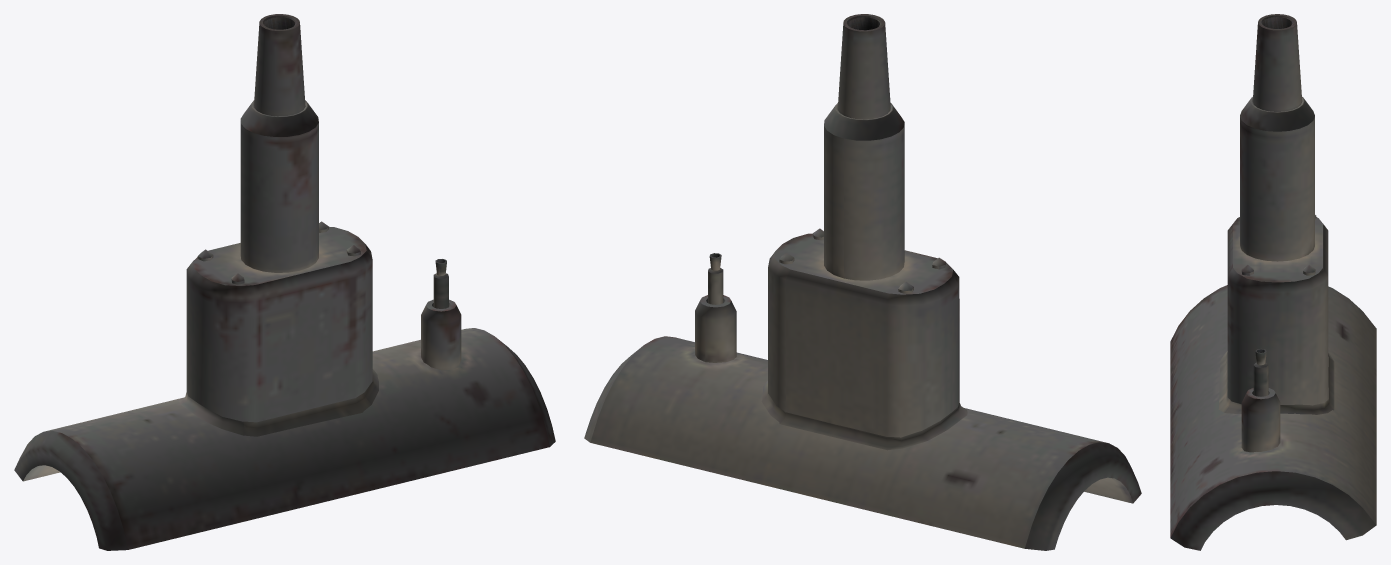
File: Gun_04.glb
The picture shows the model from 3 angles, left to right: view 1: azimuth 30°, elevation 25°; view 2: azimuth 150°, elevation 25°; view 3: azimuth 270°, elevation 25°; orthographic projection. The views are drawn at different scales.
Visible parts, largest first — view 1: set_0_group_0; view 2: set_0_group_0; view 3: set_0_group_0.
Boxes of the visible parts, box(x1,y1,x2,y2) form: set_0_group_0: box(14, 14, 555, 550); set_0_group_0: box(584, 14, 1141, 550); set_0_group_0: box(1170, 14, 1376, 550).
Bounding box in the file's own units: 1.26 × 1.18 × 0.5237.
Materials: 1 (1 with a texture image).
